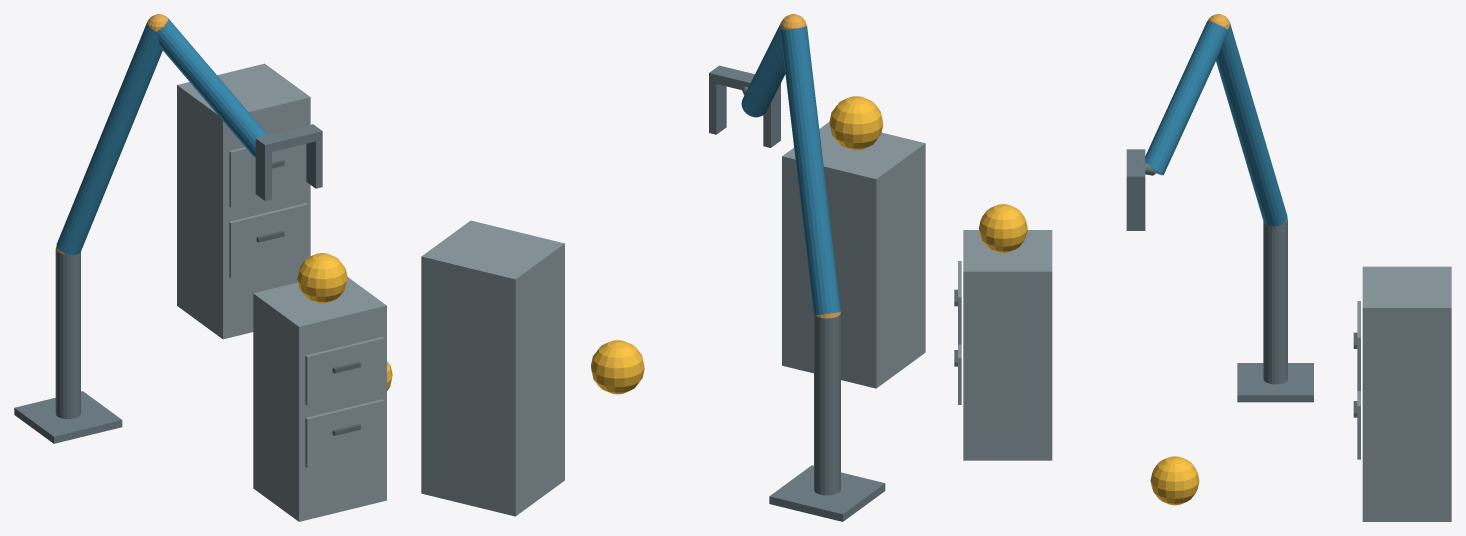
The picture shows the model from 3 angles, left to right: view 1: azimuth 30°, elevation 25°; view 2: azimuth 150°, elevation 25°; view 3: azimuth 270°, elevation 25°; orthographic projection. The views are drawn at different scales.
Visible parts, largest first — view 1: cabinet_1 body, cabinet_2 body, moving link 1, cabinet_2 drawer front, fixed post, cabinet_1 drawer front, cabinet_1 drawer front.001, moving link 2, cabinet_2 drawer front.001, pedestal, released ball_1, gripper bridge (+2 smaller); view 2: cabinet_2 body, cabinet_1 body, moving link 1, fixed post, pedestal, released ball_1, ball ball_2, moving link 2, gripper finger 1, gripper finger -1, gripper bridge; view 3: cabinet_2 body, cabinet_1 body, moving link 1, fixed post, moving link 2, pedestal, ball ball_2, released ball_1, gripper finger 1, gripper bridge.
Boxes of the visible parts, x1=… form: cabinet_1 body: x1=253, y1=277, x2=386, y2=521; cabinet_2 body: x1=177, y1=63, x2=310, y2=339; moving link 1: x1=56, y1=22, x2=162, y2=255; cabinet_2 drawer front: x1=229, y1=203, x2=308, y2=278; fixed post: x1=55, y1=248, x2=80, y2=419; cabinet_1 drawer front: x1=305, y1=399, x2=384, y2=467; cabinet_1 drawer front.001: x1=305, y1=337, x2=384, y2=405; moving link 2: x1=157, y1=18, x2=267, y2=156; cabinet_2 drawer front.001: x1=229, y1=144, x2=308, y2=207; pedestal: x1=14, y1=391, x2=122, y2=443; released ball_1: x1=297, y1=253, x2=347, y2=303; gripper bridge: x1=255, y1=124, x2=322, y2=153; cabinet_2 body: x1=421, y1=220, x2=564, y2=516; cabinet_1 body: x1=782, y1=122, x2=925, y2=388; moving link 1: x1=781, y1=26, x2=840, y2=314; fixed post: x1=814, y1=312, x2=840, y2=495; pedestal: x1=769, y1=465, x2=885, y2=521; released ball_1: x1=829, y1=96, x2=883, y2=150; ball ball_2: x1=591, y1=340, x2=644, y2=394; moving link 2: x1=741, y1=19, x2=785, y2=117; gripper finger 1: x1=709, y1=82, x2=726, y2=134; gripper finger -1: x1=763, y1=90, x2=780, y2=147; gripper bridge: x1=709, y1=65, x2=780, y2=92; cabinet_2 body: x1=1362, y1=266, x2=1451, y2=521; cabinet_1 body: x1=963, y1=230, x2=1052, y2=460; moving link 1: x1=1216, y1=22, x2=1287, y2=226; fixed post: x1=1263, y1=220, x2=1287, y2=384; moving link 2: x1=1145, y1=21, x2=1227, y2=175; pedestal: x1=1237, y1=363, x2=1313, y2=402; ball ball_2: x1=1150, y1=456, x2=1199, y2=505; released ball_1: x1=978, y1=204, x2=1027, y2=252; gripper finger 1: x1=1126, y1=185, x2=1145, y2=230; gripper bridge: x1=1126, y1=149, x2=1145, y2=184.
Size of the model in its own units: 1.17 by 1.44 by 1.62.
